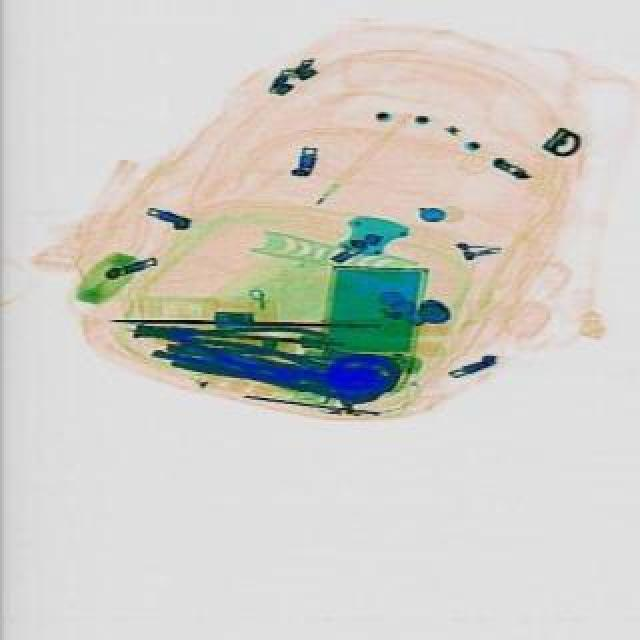wrench: (128, 308, 328, 388)
